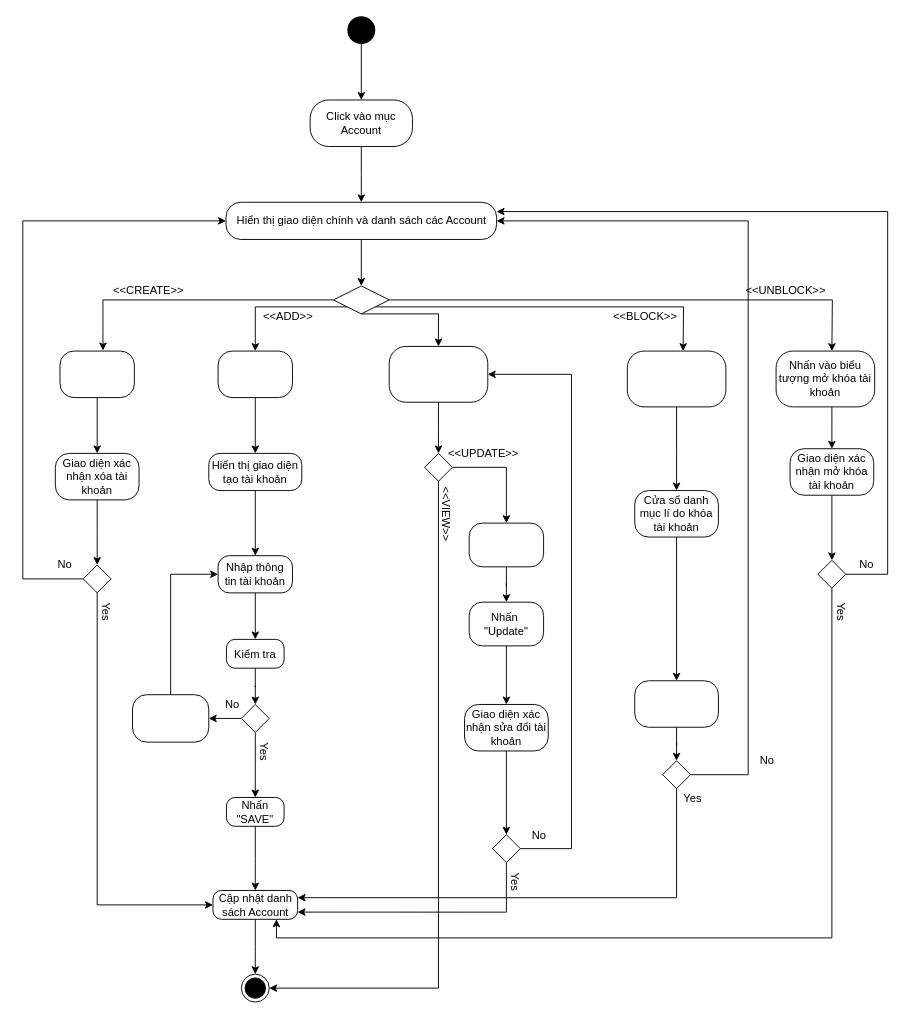
The diagram is 911 pixels wide and 1018 high, and some of its shapes have lost their labels. Each missing label, with the box of its shape:
Giao diện xác nhận khóa tài khoản: (634, 680, 718, 727)
Nhấn "+" để tạo tài khoản: (217, 350, 292, 398)
Nhấn "X": (59, 350, 134, 398)
Nhấn vào biểu tượng khóa tài khoản: (626, 350, 726, 407)
Nhấn vào tài khoản để xem chi tiết thông tin tài khoản: (388, 345, 488, 402)
Sửa đổi thông tin tài khoản: (468, 522, 544, 567)
Thông báo tài khoản không hợp lệ: (132, 694, 209, 742)
